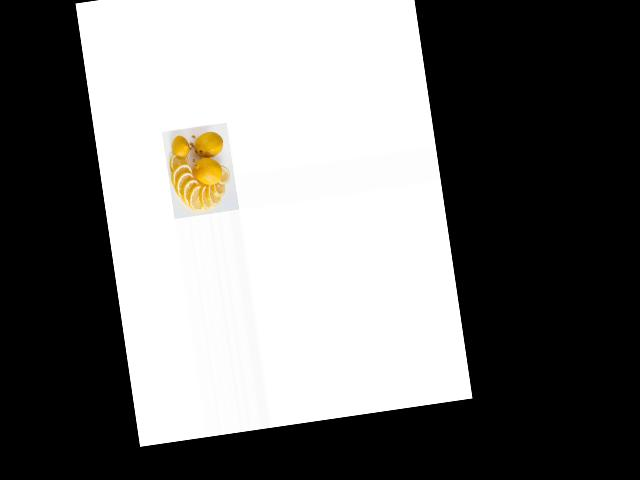lemon: (170, 134, 192, 157)
